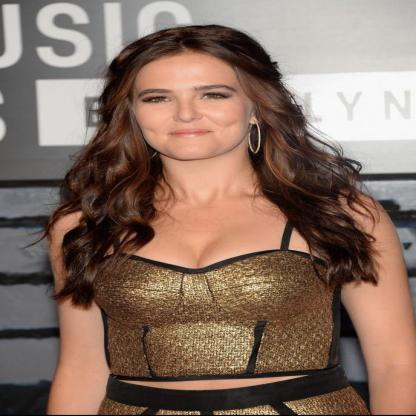long-hair: (48, 160, 362, 202)
